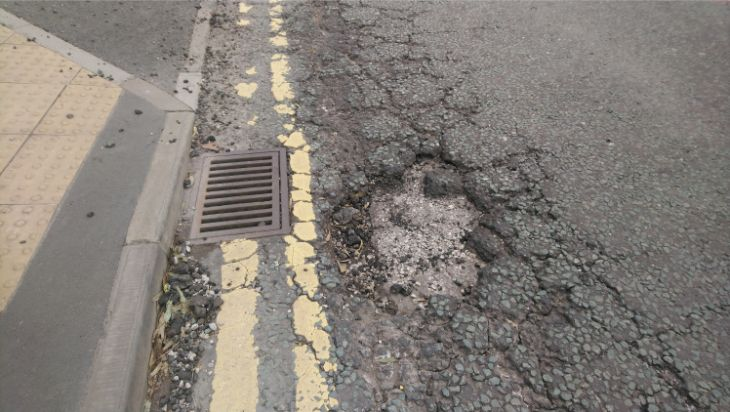pothole: (316, 143, 516, 317)
